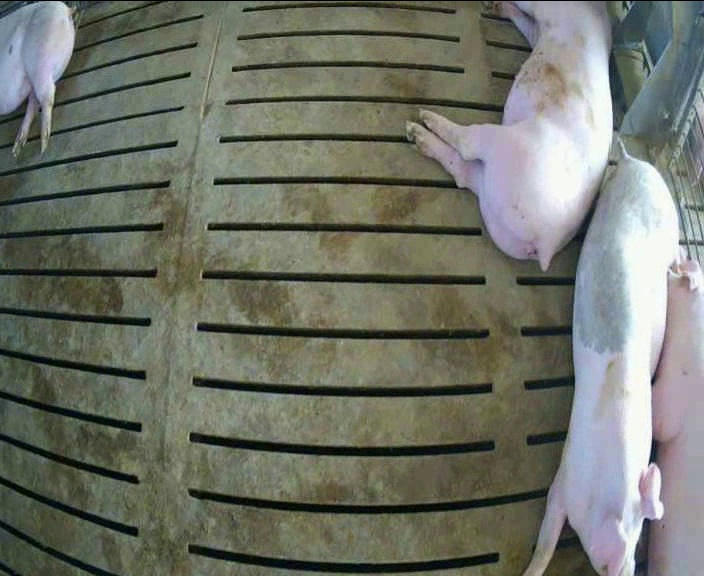pig: (526, 144, 677, 573), (407, 3, 611, 269), (648, 260, 703, 574), (0, 2, 76, 156)
